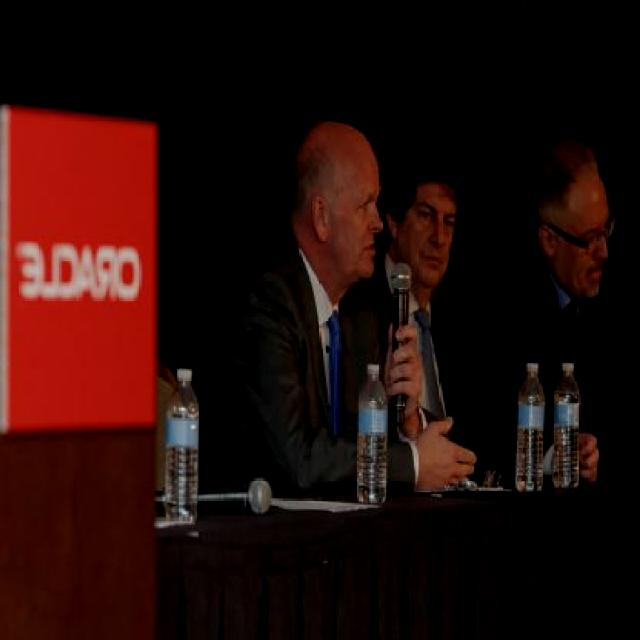Person: (207, 119, 478, 502), (371, 136, 603, 484), (478, 116, 640, 458)
